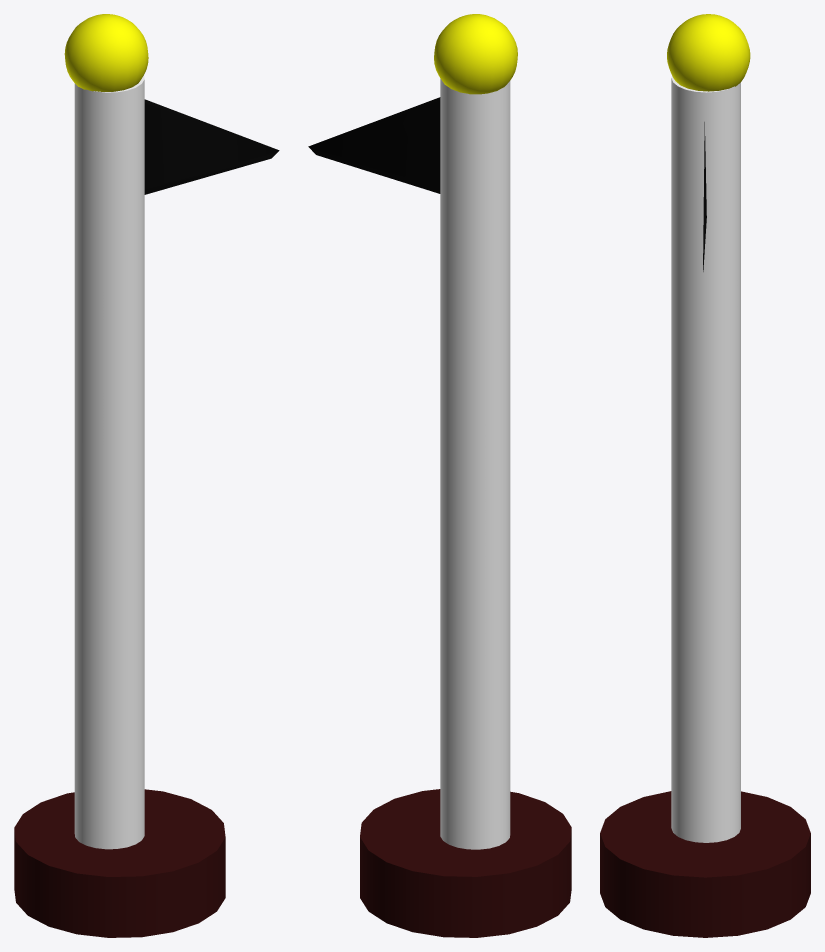
The model's file is Goal.fbx.
The picture shows the model from 3 angles, left to right: view 1: azimuth 30°, elevation 25°; view 2: azimuth 150°, elevation 25°; view 3: azimuth 270°, elevation 25°; orthographic projection.
Parts seen in each view (by area): view 1: goal_pCylinder3_2, goal_pCylinder1_17, goal_pCone2_23, goal_pSphere1_26; view 2: goal_pCylinder3_2, goal_pCylinder1_17, goal_pCone2_23, goal_pSphere1_26; view 3: goal_pCylinder3_2, goal_pCylinder1_17, goal_pSphere1_26.
Boxes of the visible parts, bbox=[...] form: goal_pCylinder3_2: bbox=[74, 75, 144, 849]; goal_pCylinder1_17: bbox=[14, 789, 225, 937]; goal_pCone2_23: bbox=[144, 99, 279, 194]; goal_pSphere1_26: bbox=[64, 14, 148, 91]; goal_pCylinder3_2: bbox=[440, 78, 510, 849]; goal_pCylinder1_17: bbox=[360, 789, 571, 937]; goal_pCone2_23: bbox=[308, 97, 440, 193]; goal_pSphere1_26: bbox=[434, 14, 517, 94]; goal_pCylinder3_2: bbox=[671, 76, 740, 842]; goal_pCylinder1_17: bbox=[600, 791, 810, 937]; goal_pSphere1_26: bbox=[667, 14, 750, 91].
Size of what is drawn, in the model's own units: 387 by 284 by 1294.
